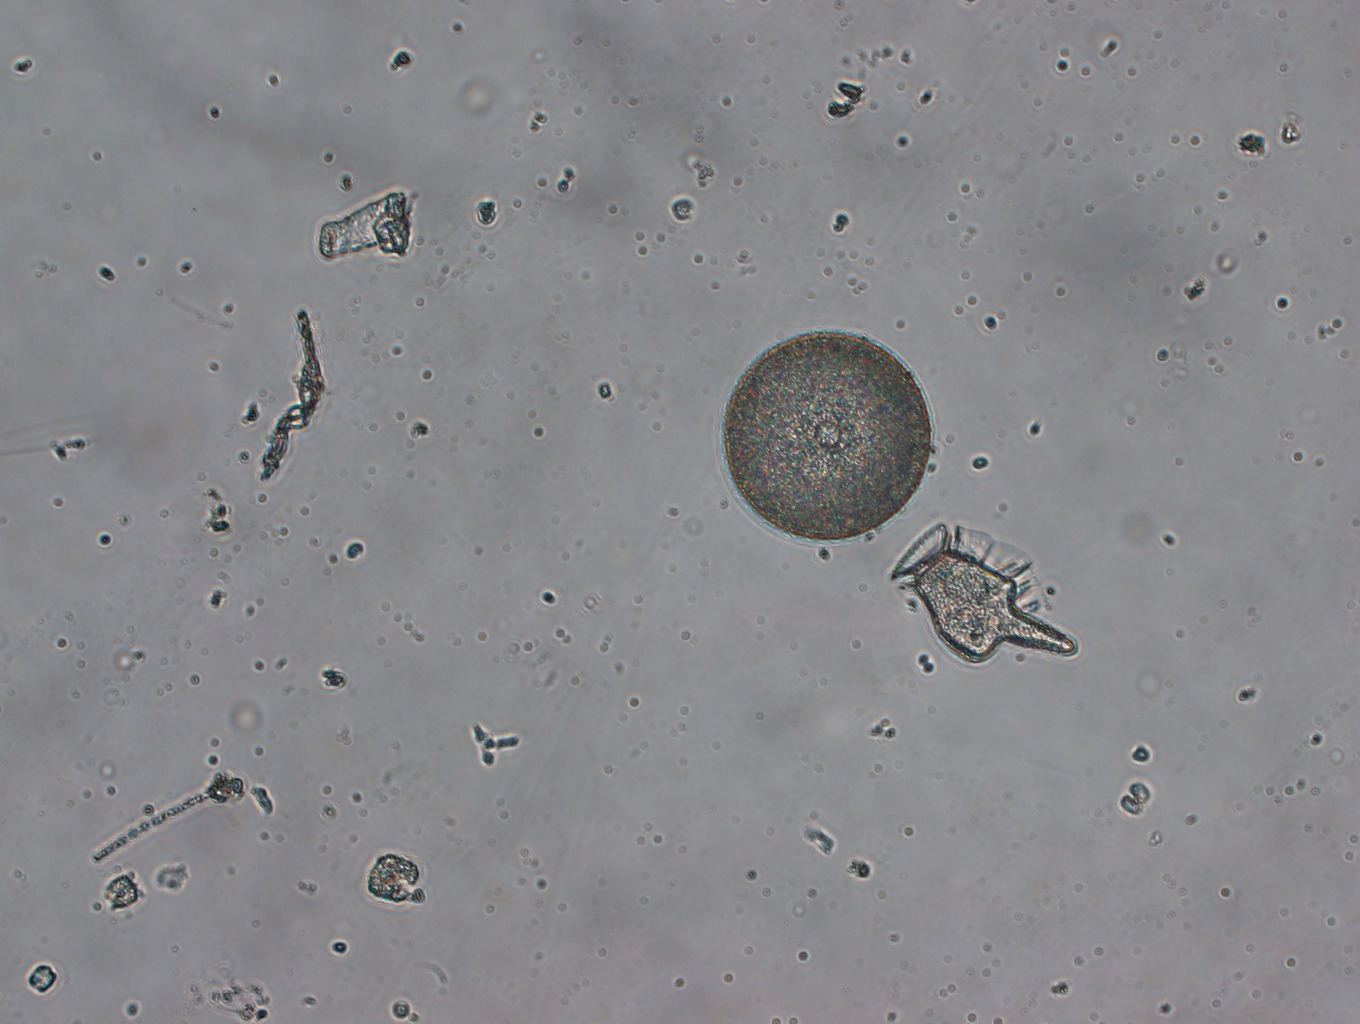coscinodiscus: (721, 322, 932, 541)
dinophysis caudata: (886, 522, 1087, 680)
